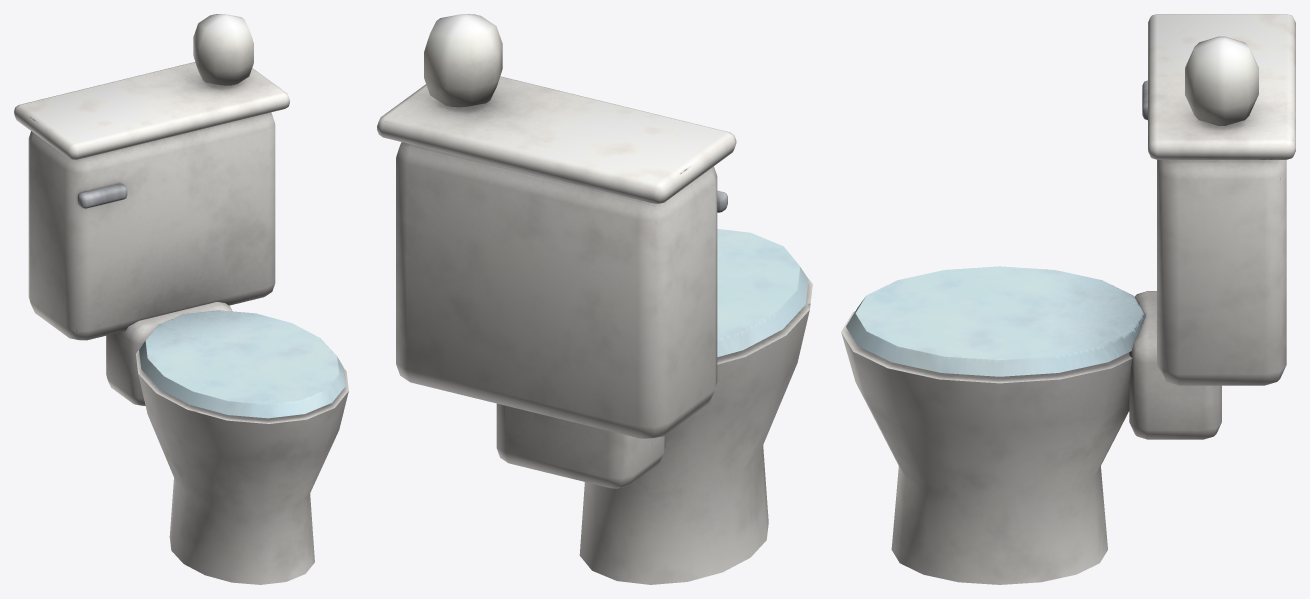
File: toilet.fbx
3 views of the same model, side by side, from view 1: azimuth 30°, elevation 25°; view 2: azimuth 150°, elevation 25°; view 3: azimuth 270°, elevation 25° (orthographic). The views are drawn at different scales.
Parts seen in each view (by area): view 1: Body, Lid, Lever; view 2: Body, Lid; view 3: Body, Lid.
Part boxes in pixels (bbox=[...]): Body: bbox=[14, 14, 348, 584]; Lid: bbox=[139, 310, 345, 418]; Lever: bbox=[77, 183, 127, 208]; Body: bbox=[377, 14, 812, 584]; Lid: bbox=[717, 229, 808, 356]; Body: bbox=[841, 14, 1295, 584]; Lid: bbox=[846, 266, 1145, 376].
Bounding box in the file's own units: 1.7 × 3.3 × 2.46.
1 material, 1 textured.
